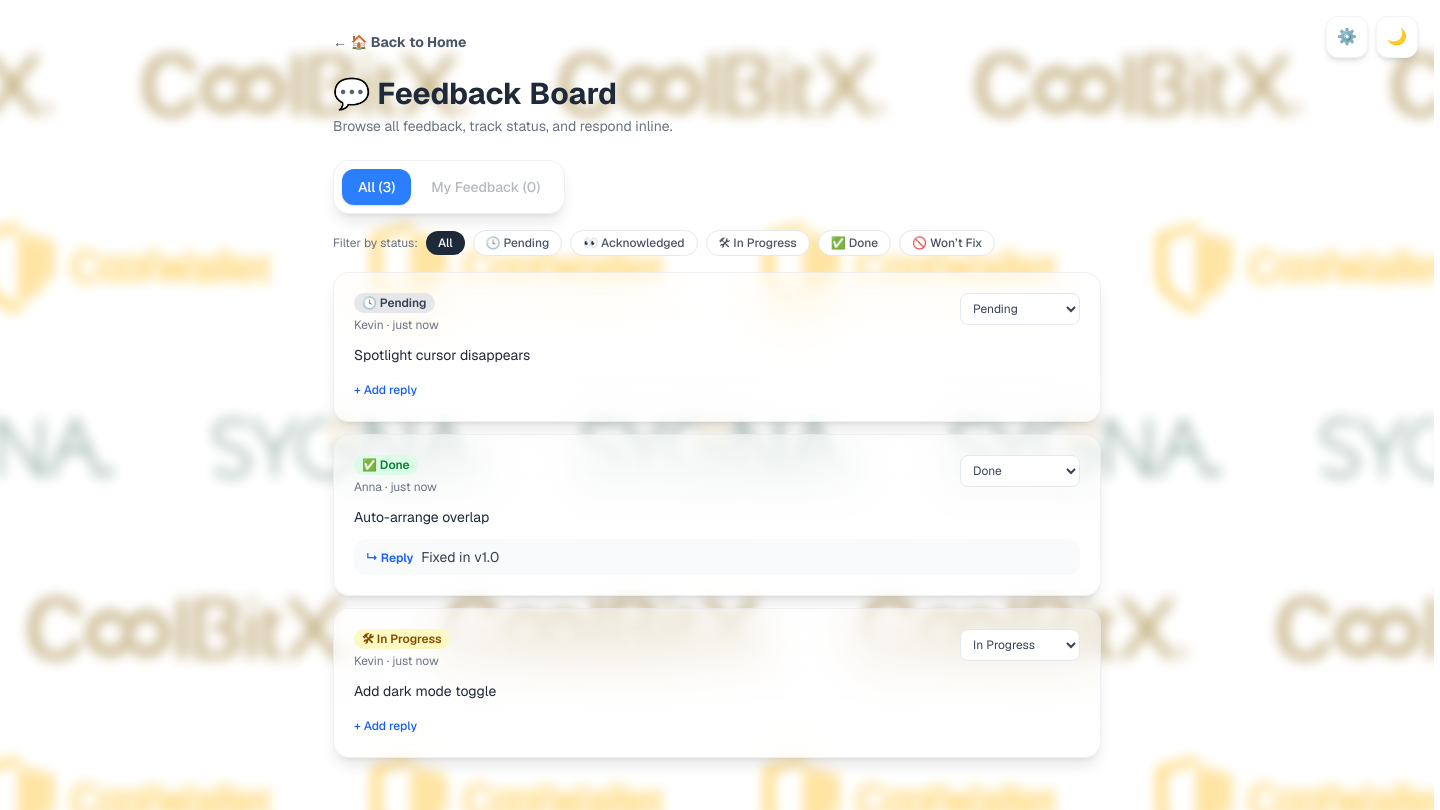
Test: FeedbackDashboard — admin reply edit › clicking an existing reply opens it for editing
Expected: the text "Auto-arrange overlap" is shown, [354, 508, 489, 526]
Click the text "Fixed in v1.0".
click(460, 557)  # box [421, 548, 499, 566]
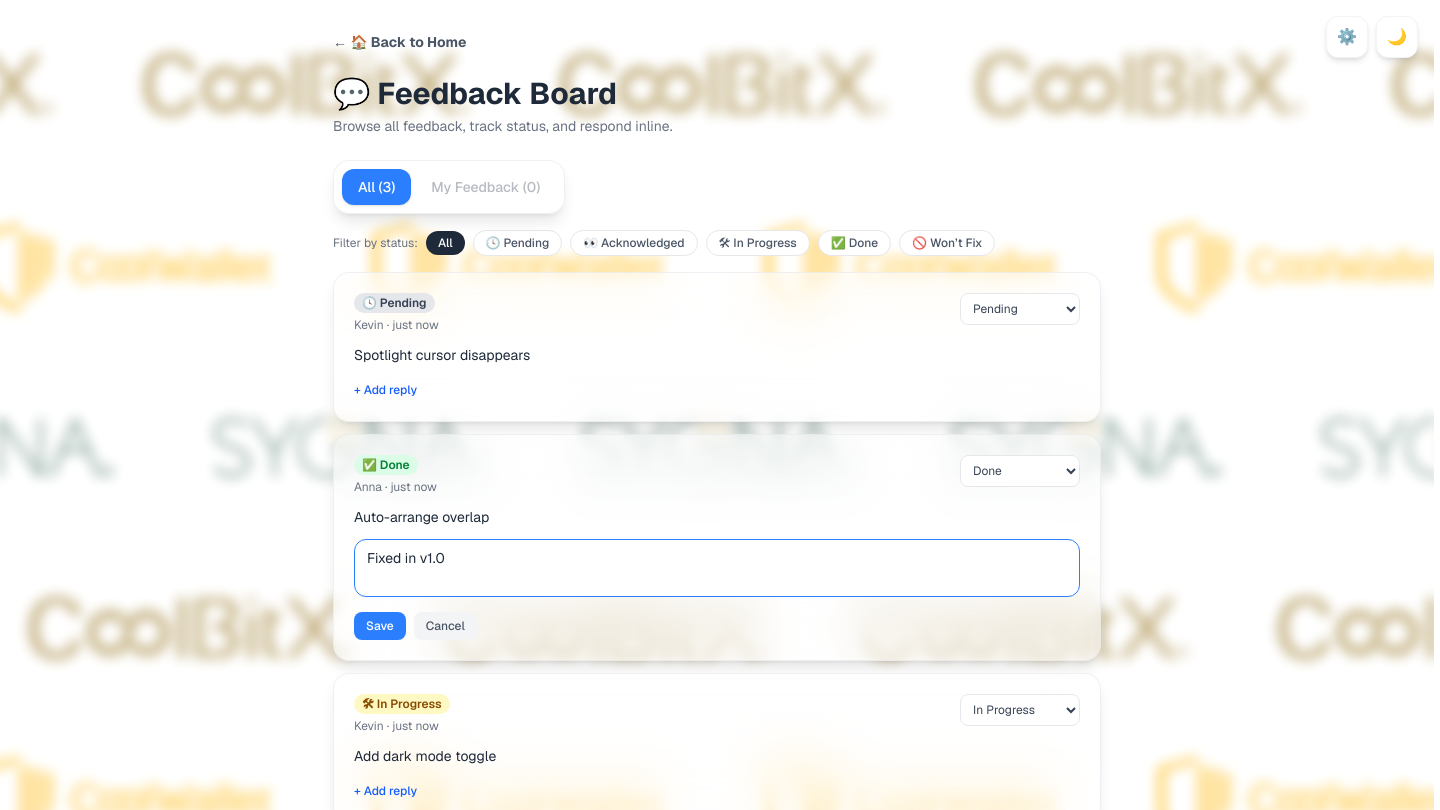
Now the text box with placeholder "Reply / status notes (visible to everyone)" holds "Fixed in v1.0", box [354, 539, 1080, 597]
